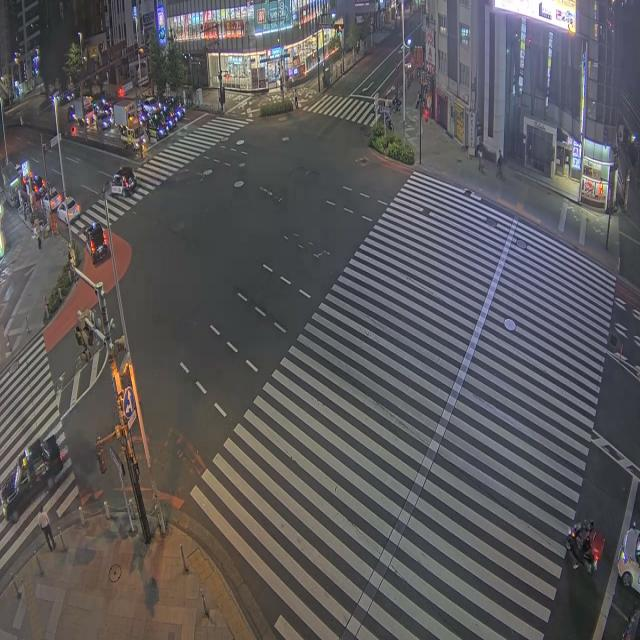car: (0, 436, 63, 523), (617, 524, 639, 591), (85, 223, 108, 263), (111, 167, 137, 196), (23, 172, 46, 199), (57, 197, 80, 223), (622, 605, 639, 639), (145, 114, 168, 139), (42, 186, 62, 212), (166, 96, 185, 119), (160, 104, 177, 129), (96, 112, 114, 129), (141, 98, 160, 113), (67, 104, 75, 122)
motorcycle: (566, 521, 604, 574)
truck: (70, 97, 94, 125), (114, 100, 135, 127)
